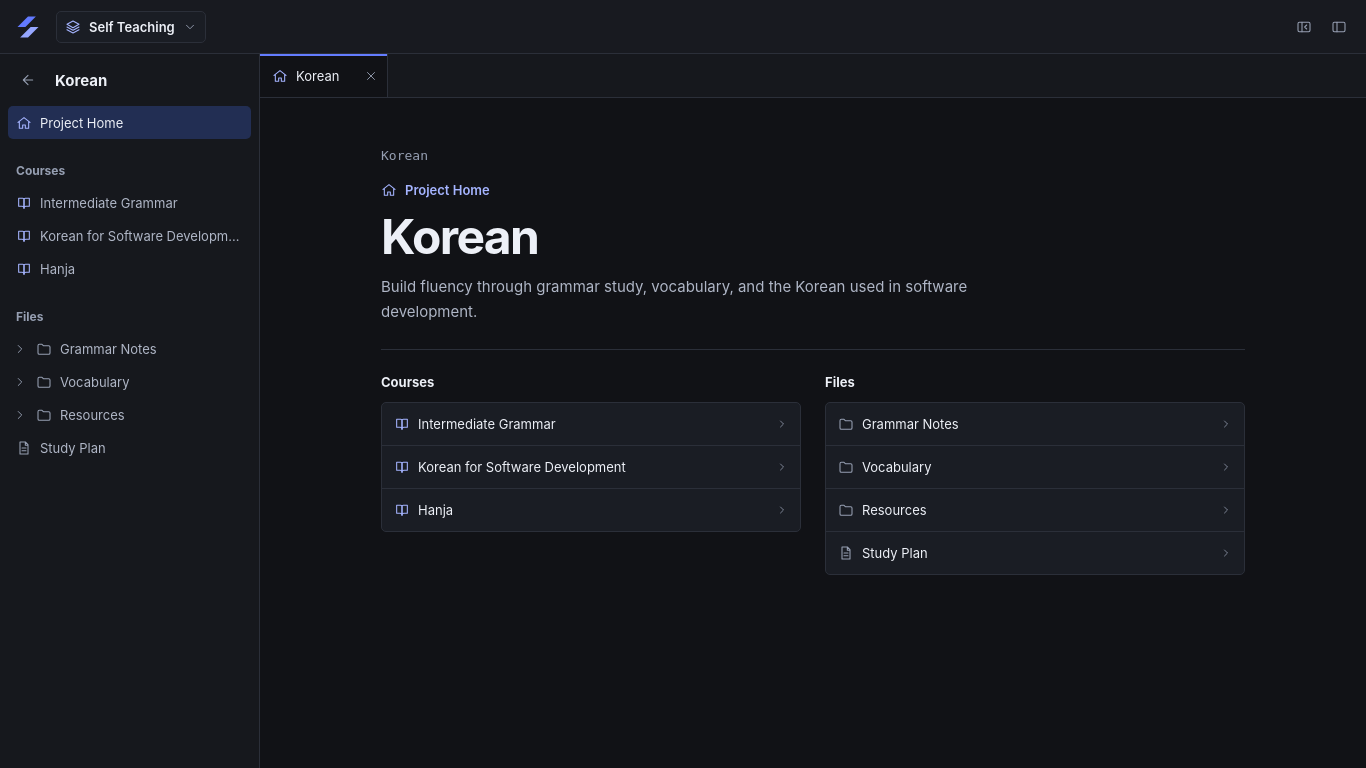
Scenario: supports keyboard selection and closing tabs while keeping focus in the editor
This screenshot has width=1366, height=768.
Click the 1st button "Hanja": (130, 268) 8,252 -> 251,285
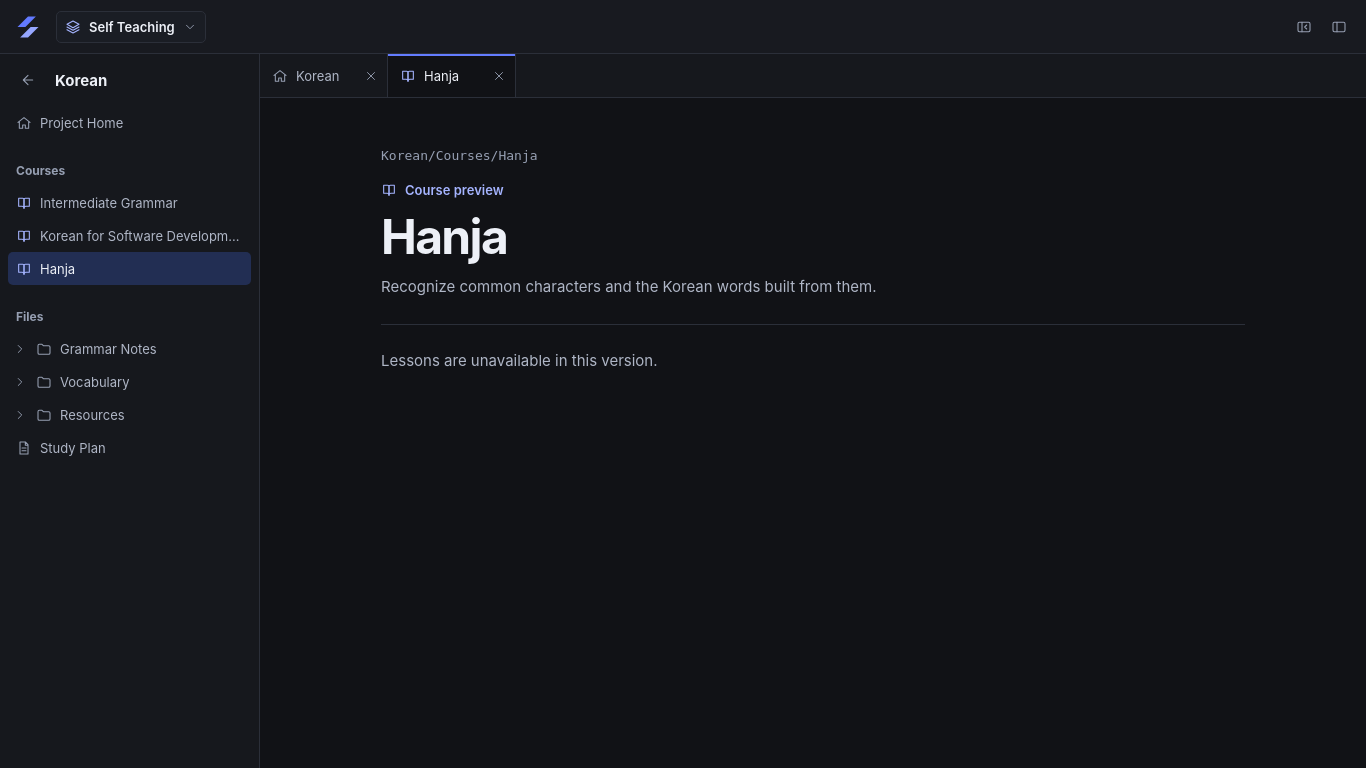
Click the button "Study Plan": (130, 448) 8,431 -> 251,464
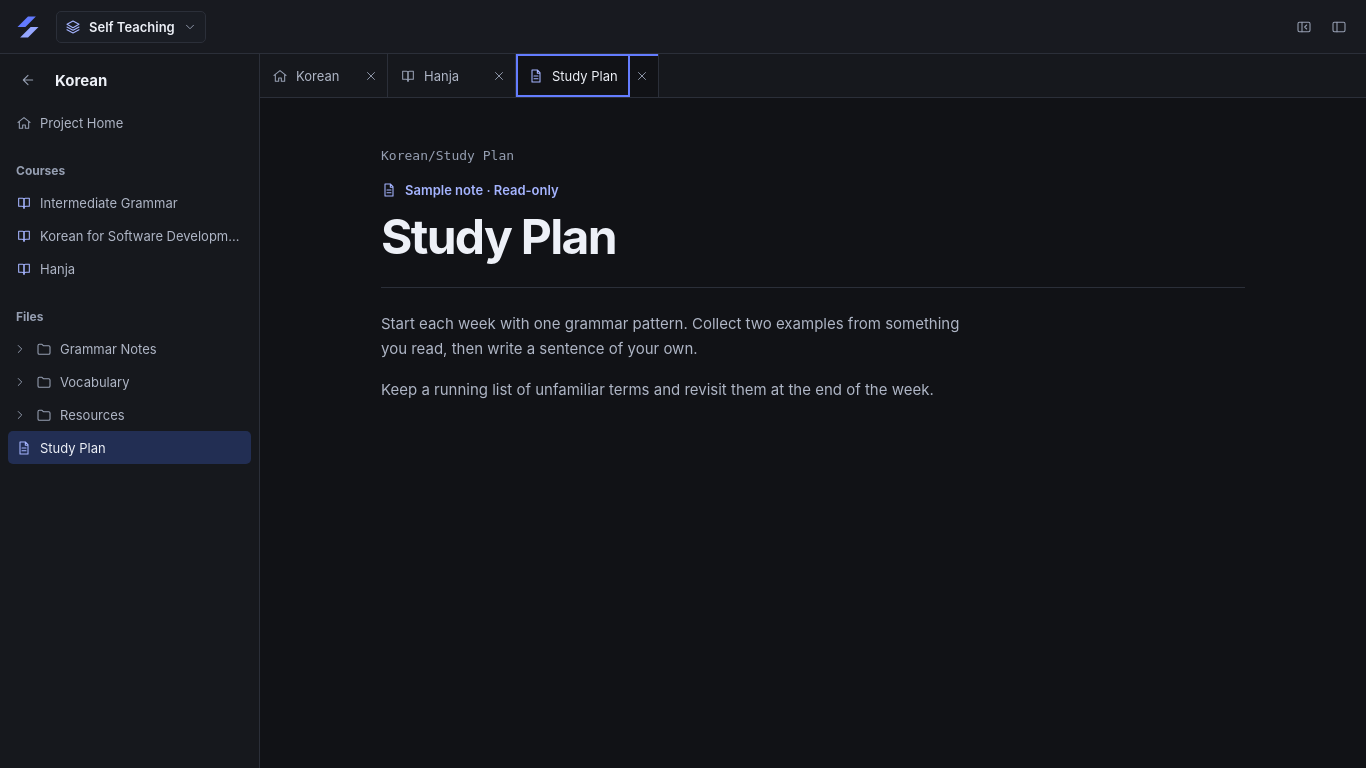
Press ArrowLeft in the tab "Study Plan", box 516,54 -> 630,97
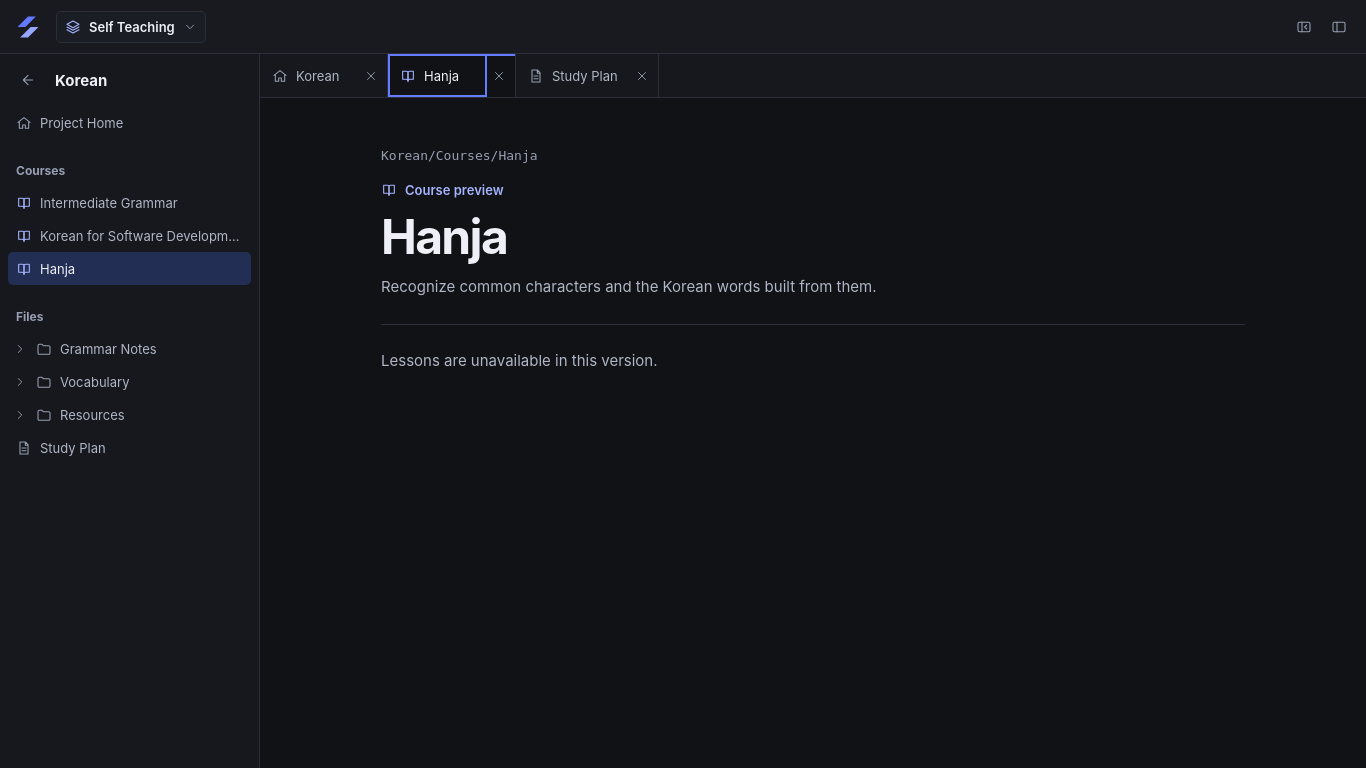
Result: the heading "Hanja" is shown at 381,206 -> 507,266
Press Delete in the tab "Hanja", box 388,54 -> 487,97
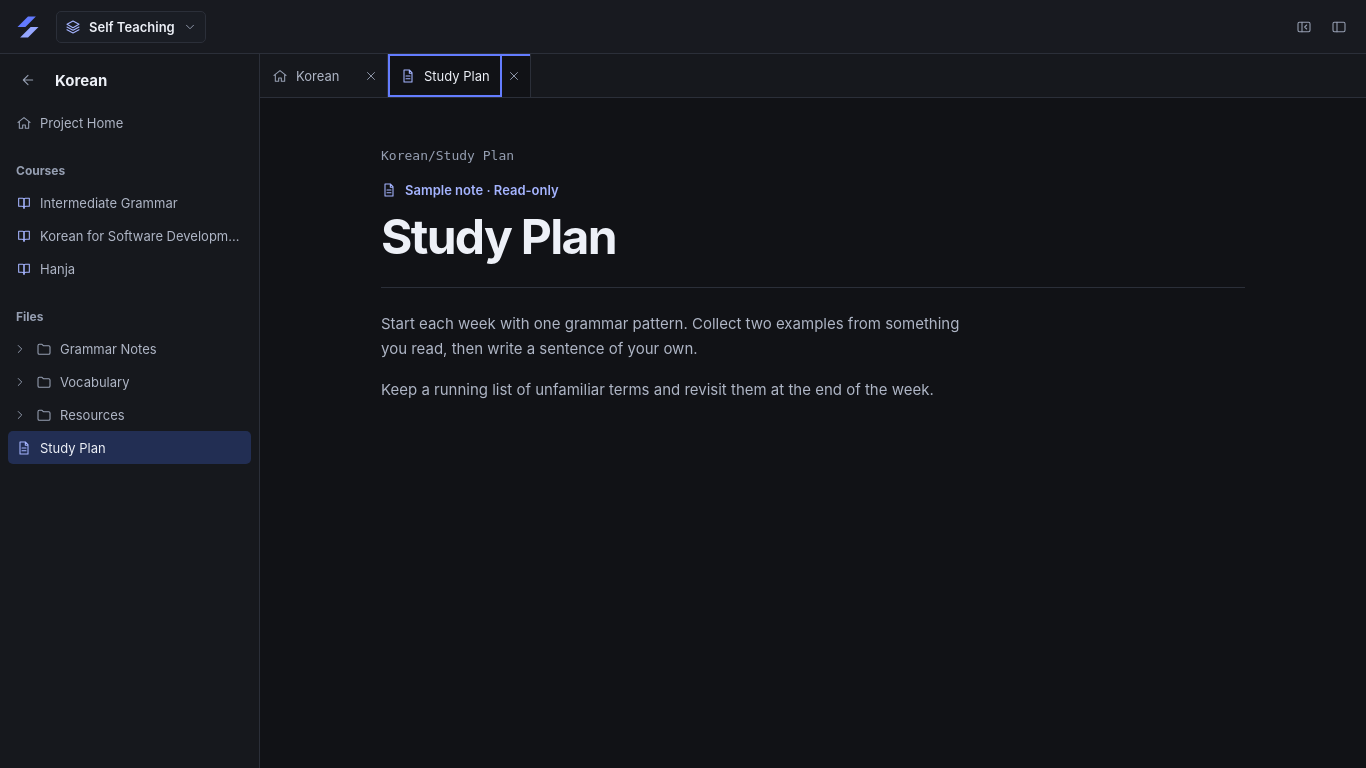
Result: the heading "Study Plan" is shown at 381,206 -> 616,266
Click the button named "Close Korean": (371, 76) 359,64 -> 383,88
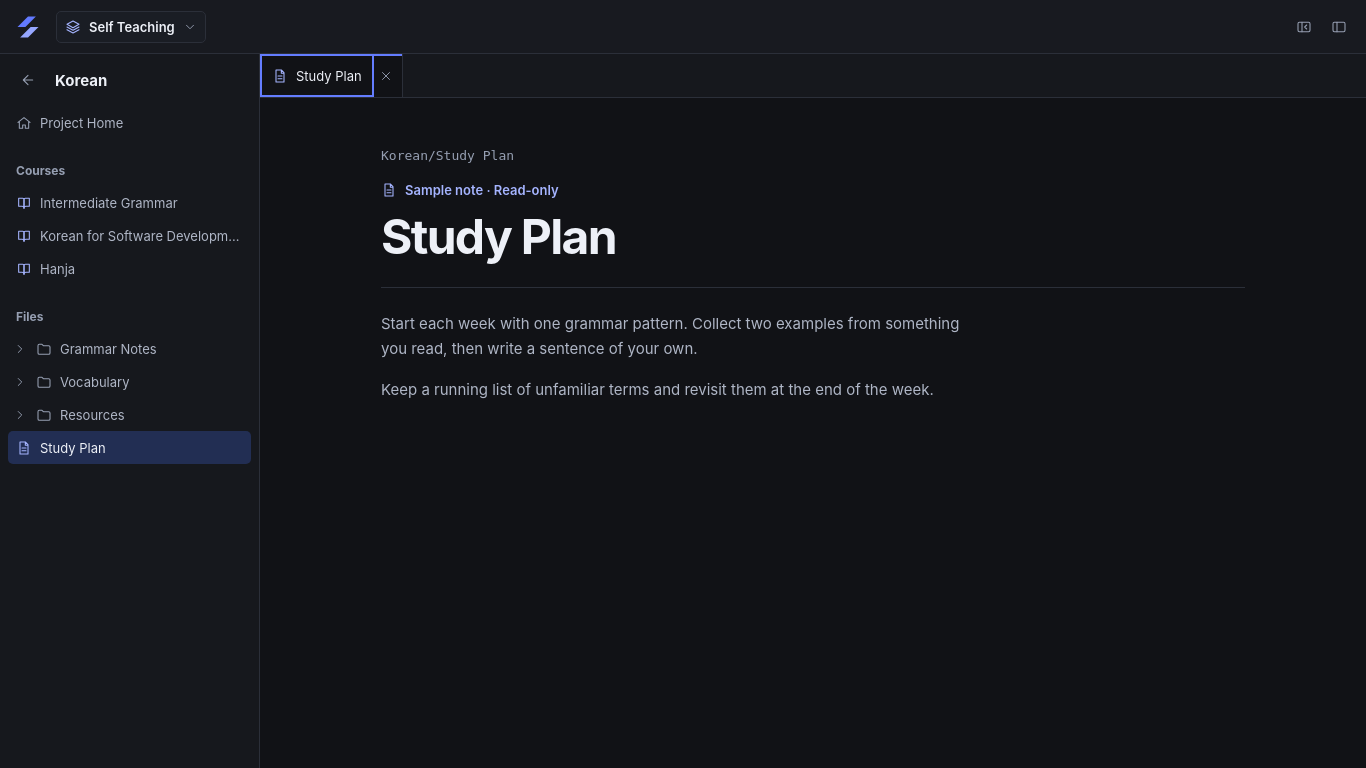
Result: the heading "Study Plan" is shown at 381,206 -> 616,266
Click the button named "Close Study Plan": (386, 76) 374,64 -> 398,88
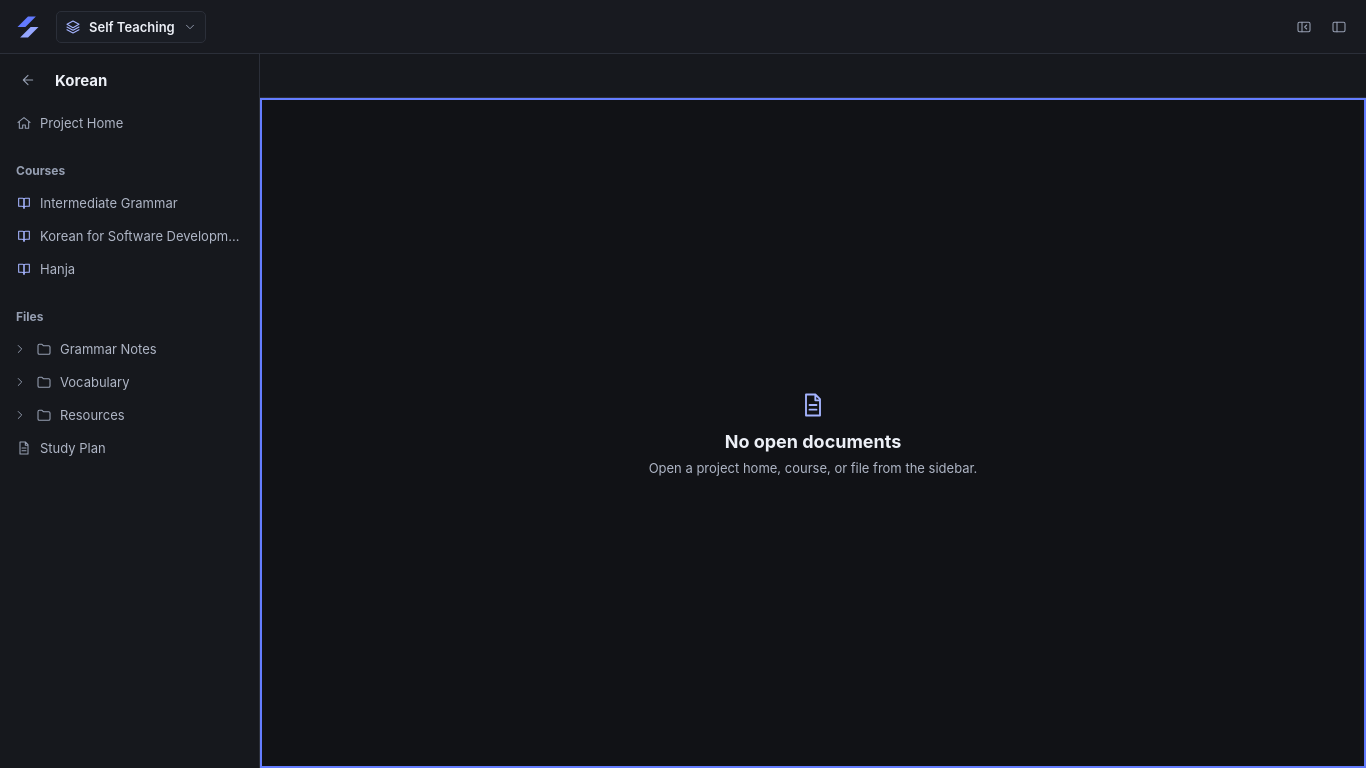
Result: the heading "No open documents" is shown at 725,430 -> 901,452
